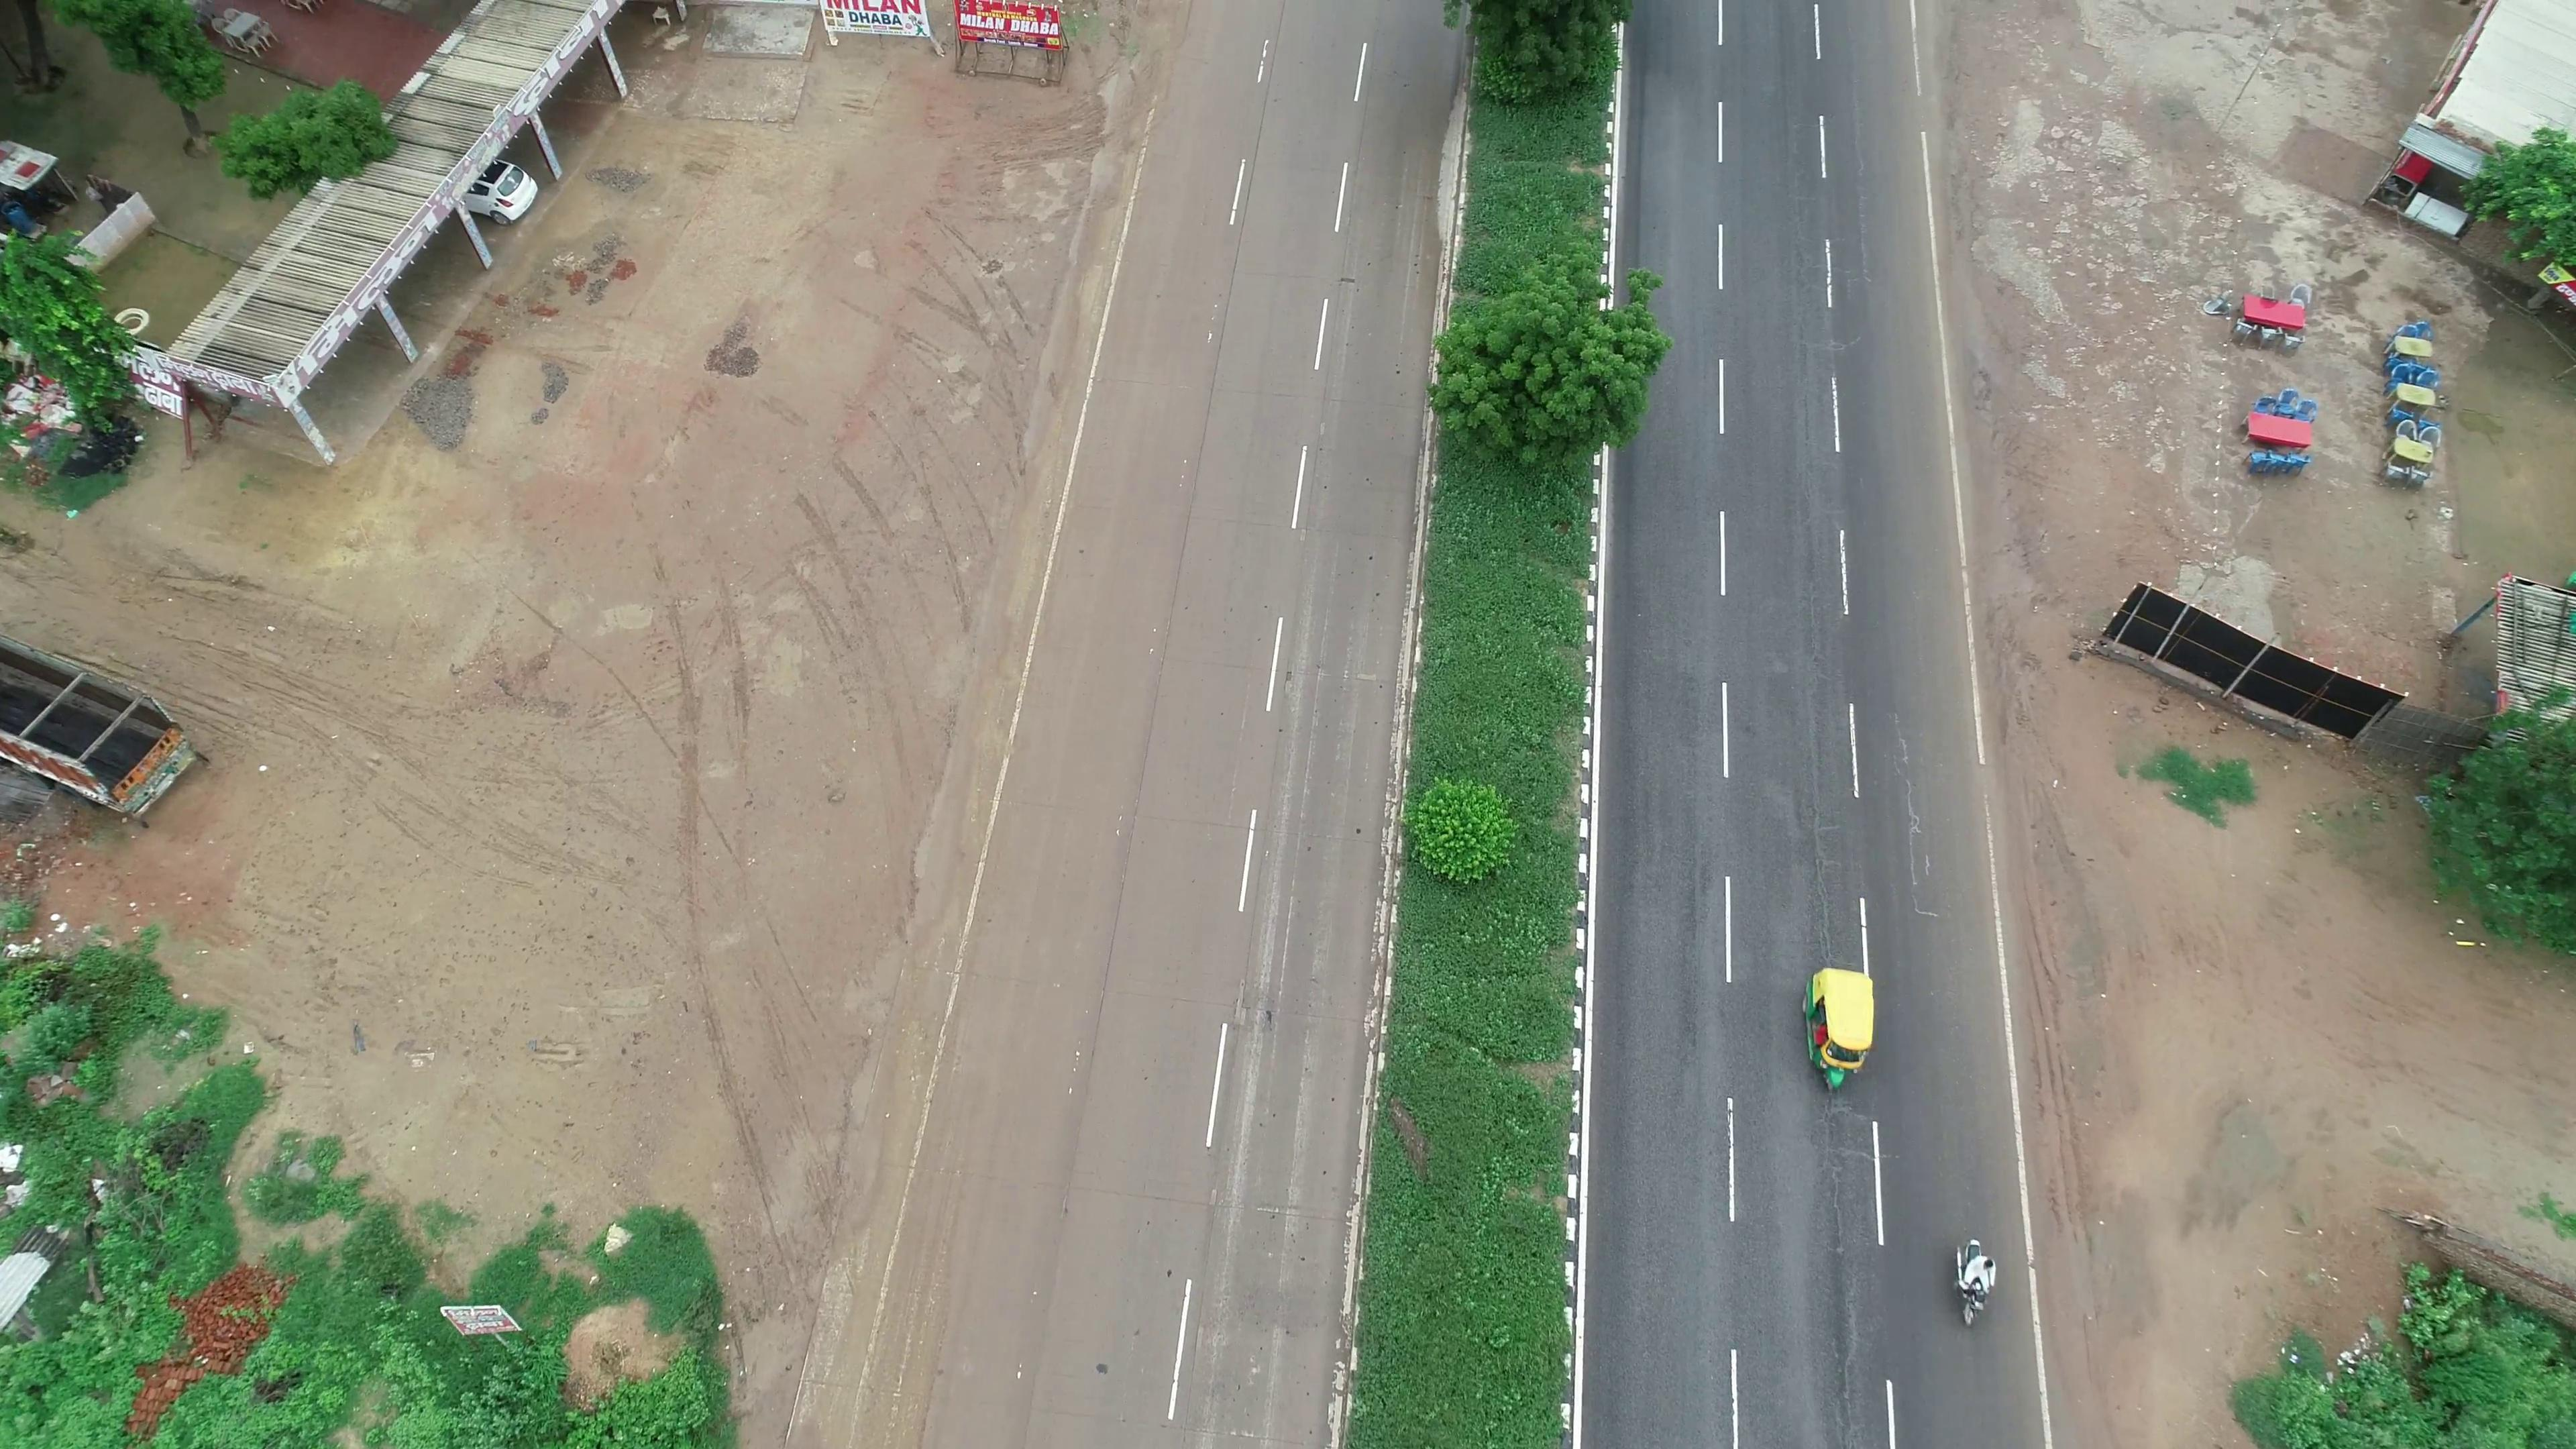Longitudinal_cracks: (1815, 1097, 1868, 1435), (1884, 702, 1951, 932)
Ravelling: (1789, 771, 1845, 966)
